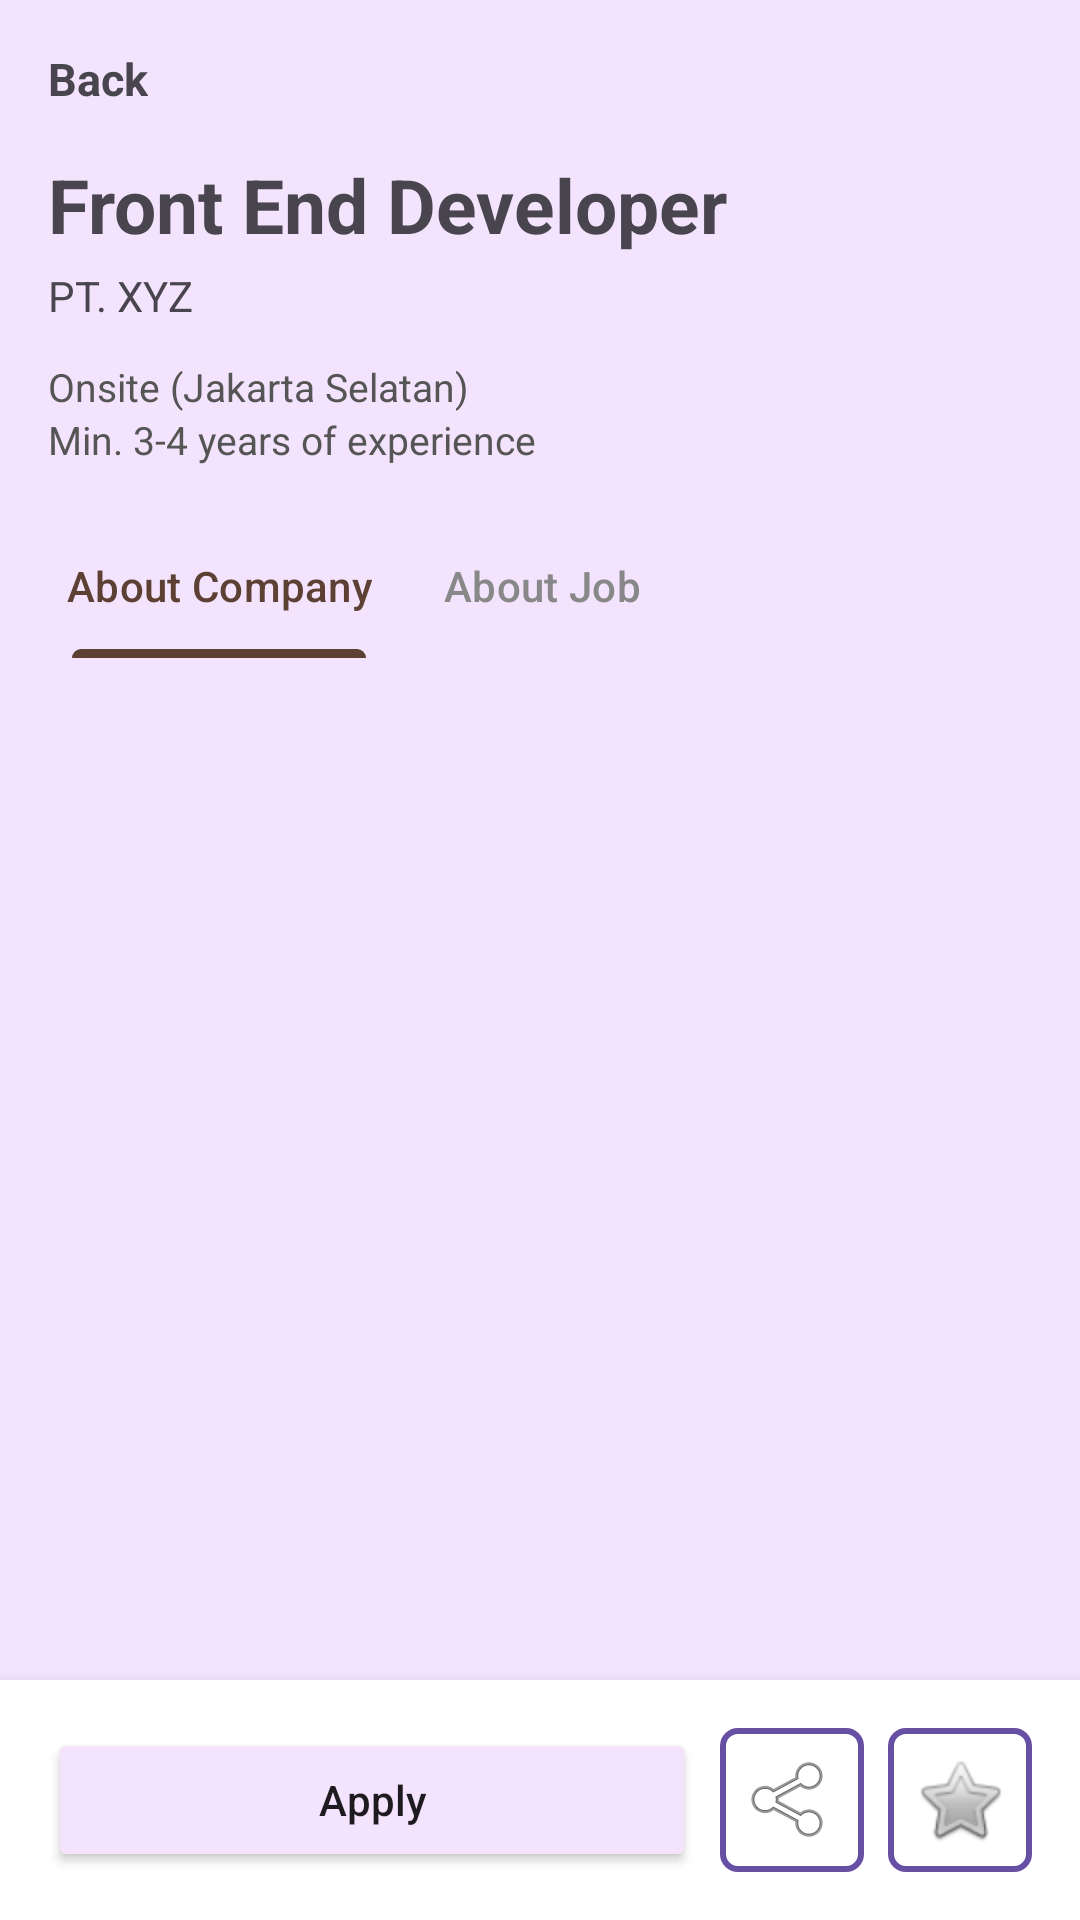

Locate icon controls on the screen. Image size 1080x1920, boxes as [left=x1, top=y1, right=x2, bottom=y2].
Save: [left=888, top=1728, right=1032, bottom=1872]
Share: [left=720, top=1728, right=864, bottom=1872]
